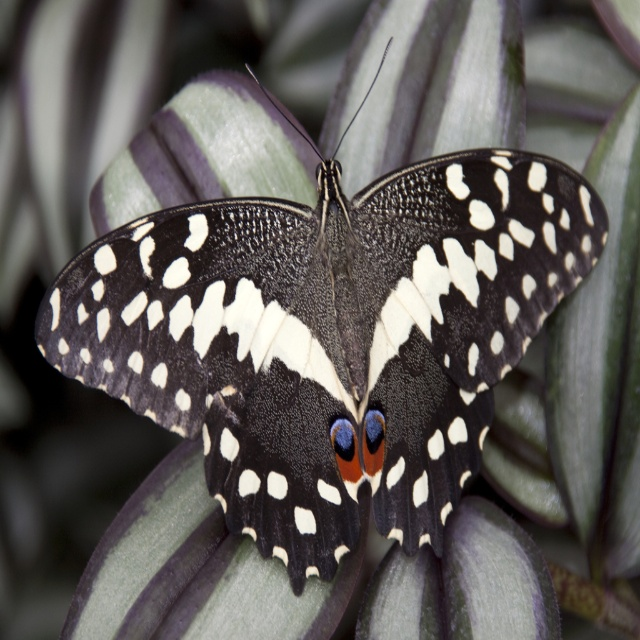Butterfly: (33, 35, 609, 599)
